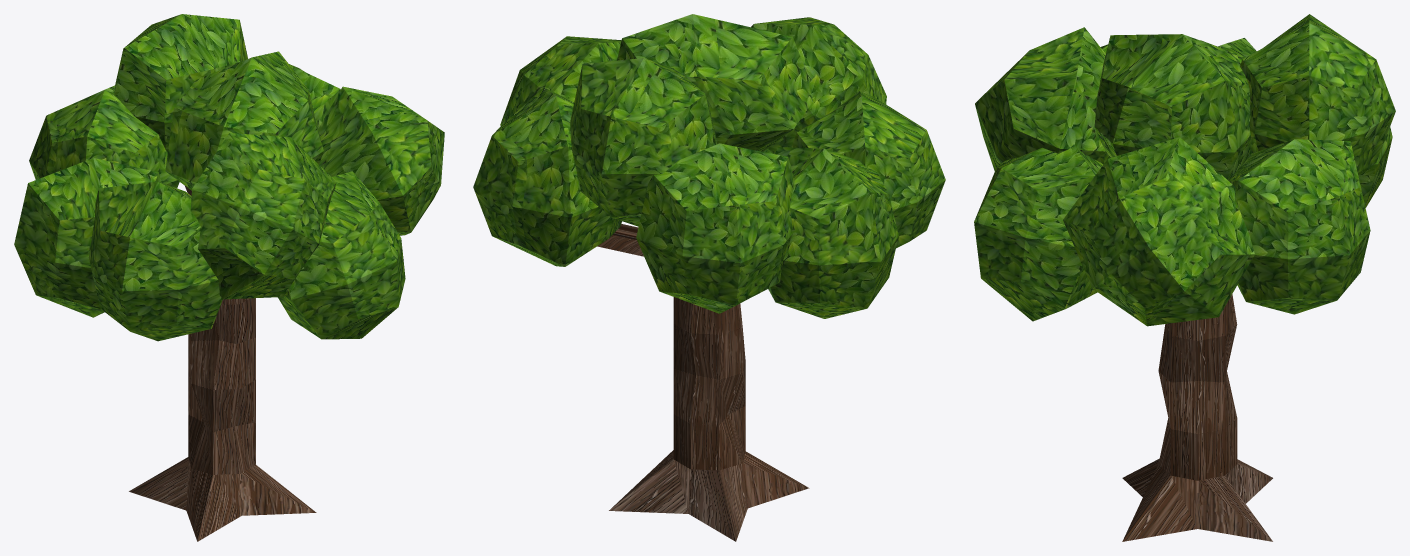
Rendered from oakTree.fbx.
3 renders of one model, left to right at view 1: azimuth 30°, elevation 25°; view 2: azimuth 150°, elevation 25°; view 3: azimuth 270°, elevation 25°, orthographic. The views are drawn at different scales.
Parts seen in each view (by area): view 1: TreeOak; view 2: TreeOak; view 3: TreeOak.
Part boxes in pixels (left/top/right/bottom): TreeOak: left=14, top=14, right=444, bottom=541; TreeOak: left=473, top=14, right=945, bottom=541; TreeOak: left=974, top=14, right=1395, bottom=541.
Bounding box in the file's own units: 352 × 390 × 303.
2 materials, 2 textured.
